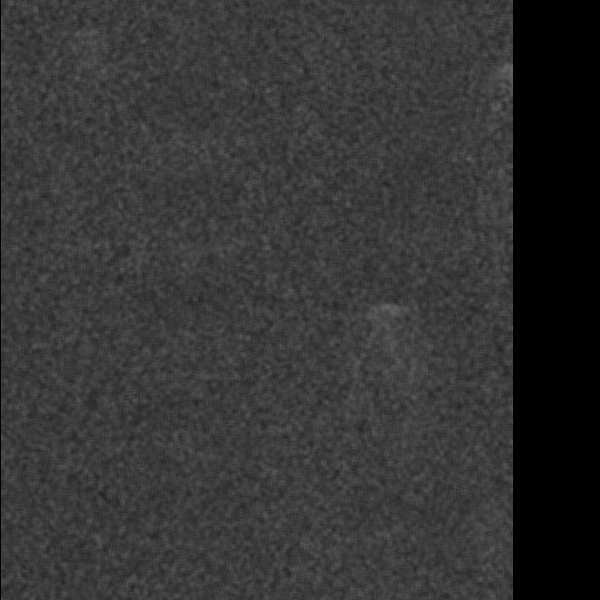spark: (99, 170, 142, 254)
